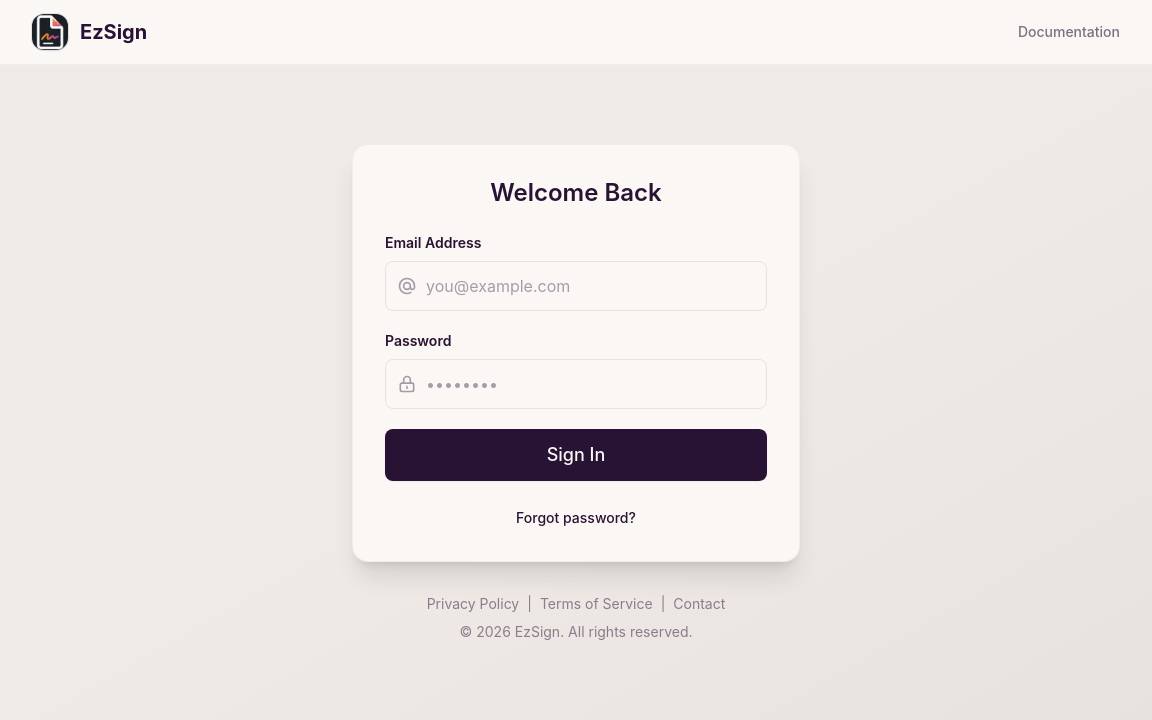
it: Login - validation feedback › renders the app-styled "Invalid email address" error rather than deferring to the browser
Type "invalid-email" into the field with placeholder "you@example.com".
click(576, 286); type("invalid-email")  # box [385,261,767,311]
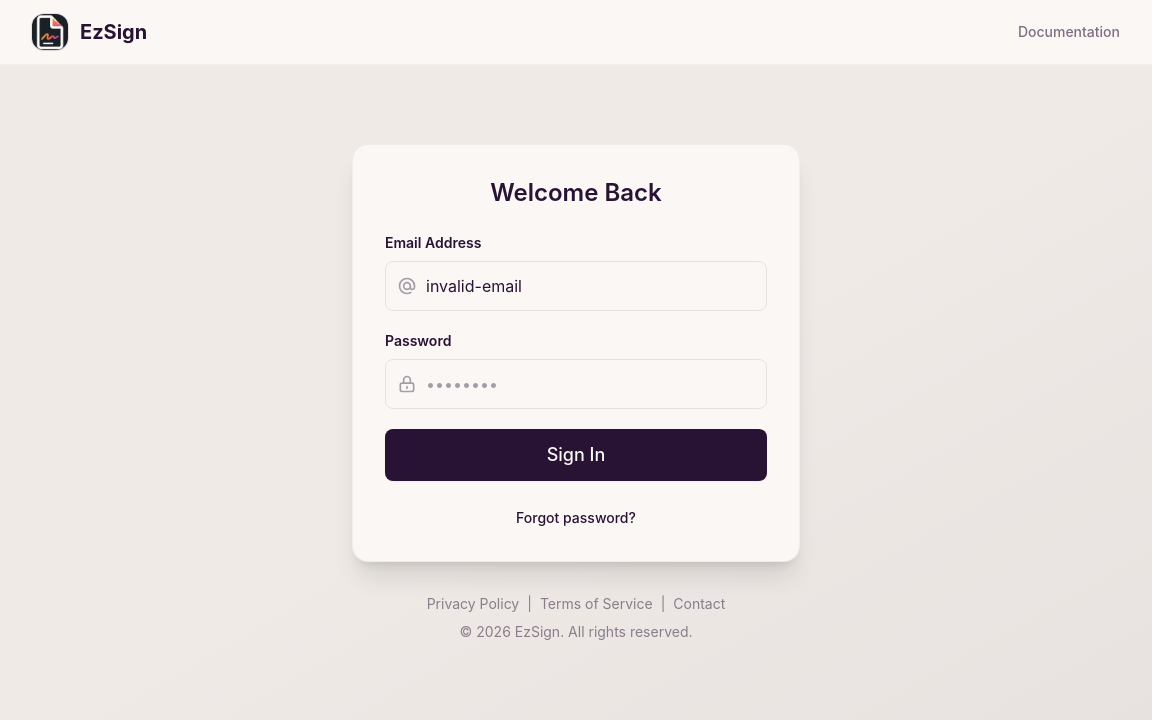
Type "password123" into the password field with placeholder "••••••••".
click(576, 384); type("password123")  # box [385,359,767,409]
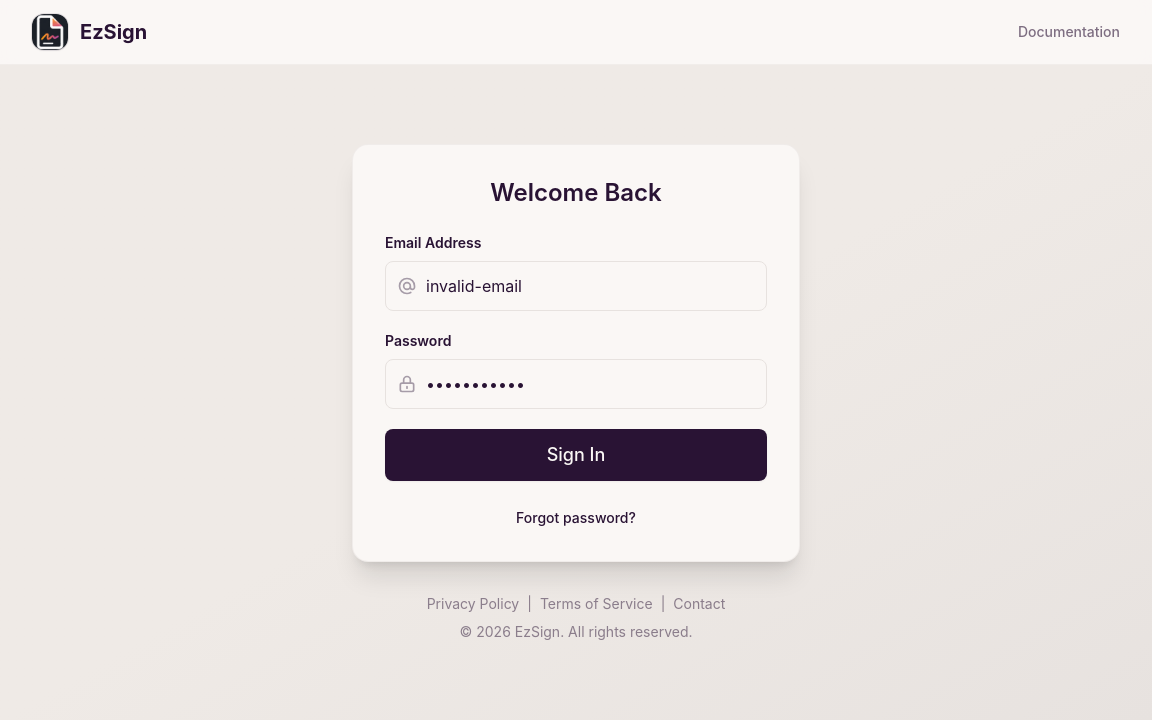
Click the button "Sign In".
click(576, 455)  # box [385,429,767,481]
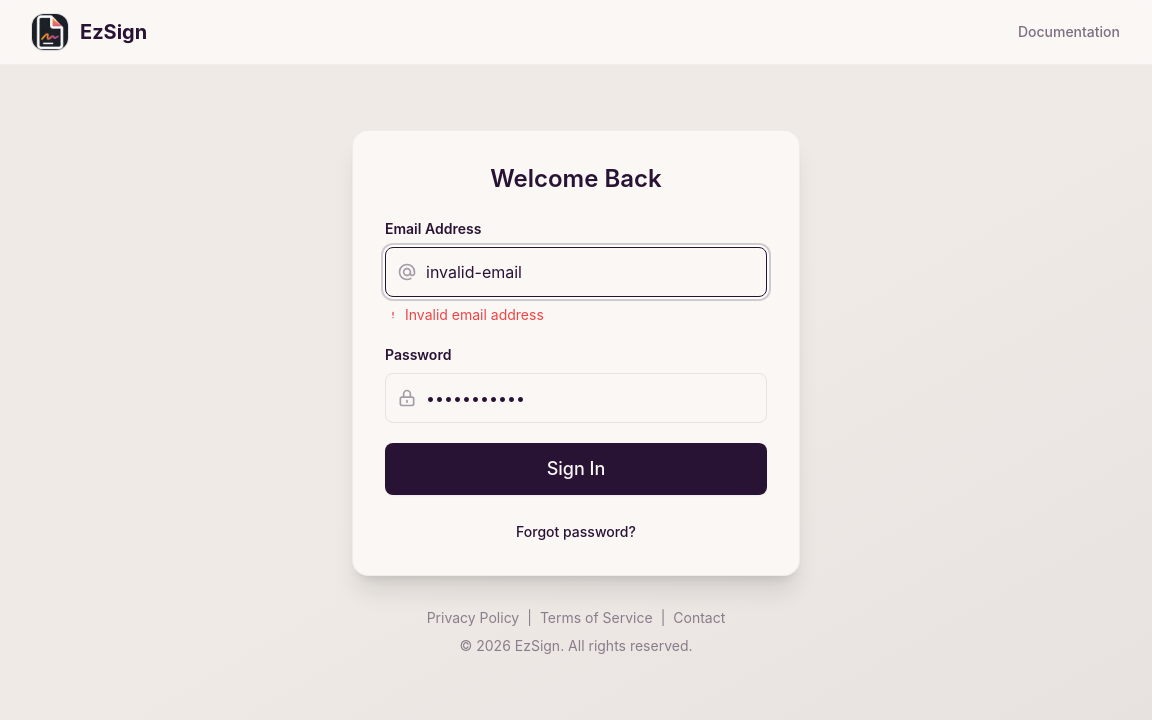
Expected: the text "Invalid email address" is shown, [385,306,544,323]
